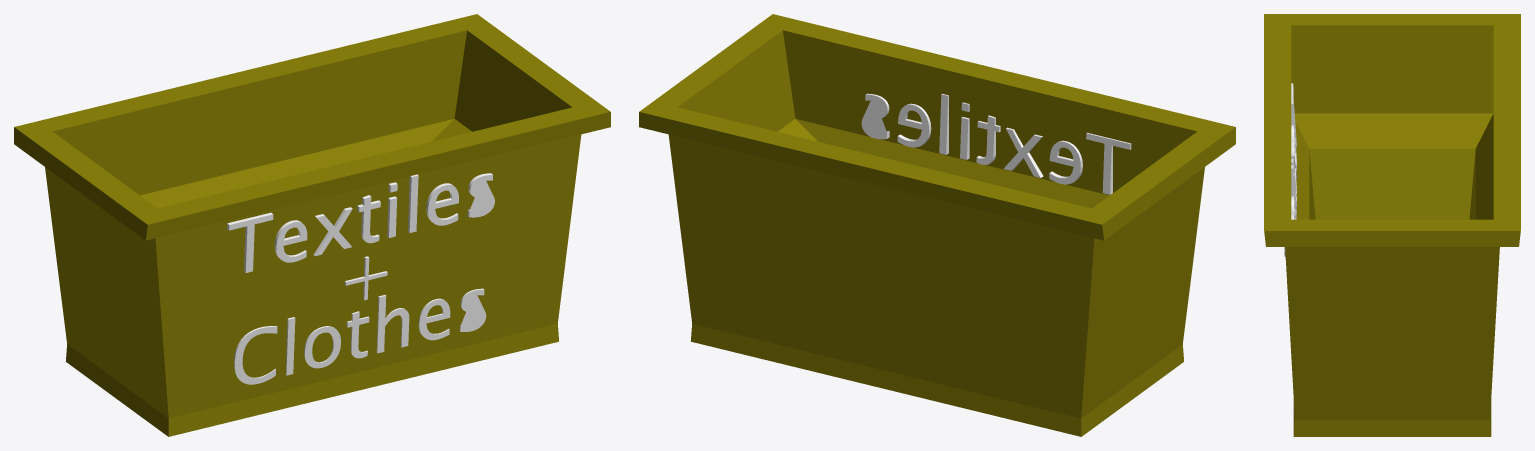
File: Tip Container Textiles.fbx
The picture shows the model from 3 angles, left to right: view 1: azimuth 30°, elevation 25°; view 2: azimuth 150°, elevation 25°; view 3: azimuth 270°, elevation 25°; orthographic projection. The views are drawn at different scales.
Parts seen in each view (by area): view 1: pCube2, typeMesh1; view 2: pCube2, typeMesh1; view 3: pCube2, typeMesh1.
Part boxes in pixels (box(x1,y1,x2,y2)): pCube2: box(14, 14, 610, 436); typeMesh1: box(227, 173, 494, 384); pCube2: box(639, 14, 1235, 436); typeMesh1: box(861, 93, 1131, 194); pCube2: box(1264, 14, 1520, 436); typeMesh1: box(1284, 83, 1296, 257).
Size of the model in its own units: 10.48 by 5 by 5.22.
